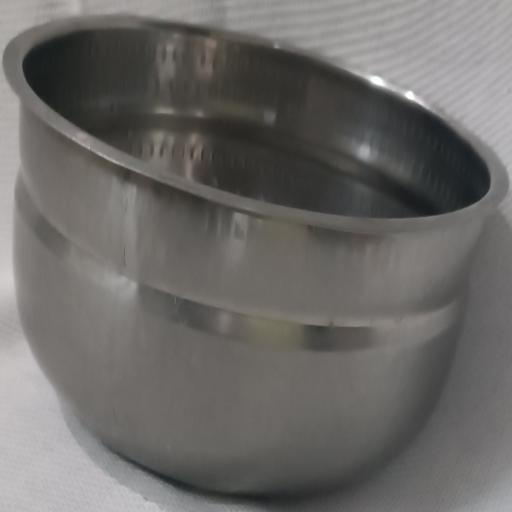vessel: (3, 17, 507, 493)
